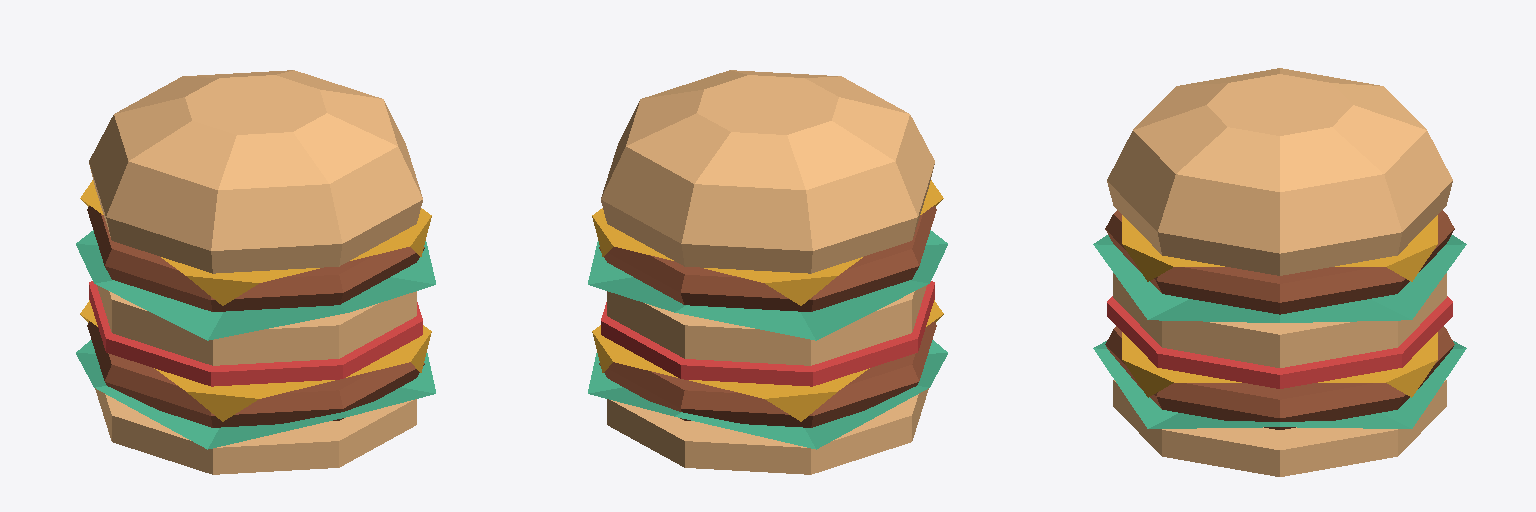
Rendered from burgerDouble.obj.
3 renders of one model, left to right at view 1: azimuth 30°, elevation 25°; view 2: azimuth 150°, elevation 25°; view 3: azimuth 270°, elevation 25°, orthographic.
Parts seen in each view (by area): view 1: bunTop, bunBottom, patty, salad, cheese, tomato; view 2: bunTop, bunBottom, patty, salad, cheese, tomato; view 3: bunTop, bunBottom, patty, salad, tomato, cheese.
Part boxes in pixels (x1,y1,x2,y2): bunTop: (89,70,422,273); bunBottom: (95,285,416,474); patty: (87,206,424,427); salad: (76,230,435,449); cheese: (80,180,431,421); tomato: (89,281,422,386); bunTop: (601,70,934,273); bunBottom: (607,285,928,474); patty: (599,206,936,427); salad: (588,230,947,449); cheese: (592,180,943,421); tomato: (601,281,934,386); bunTop: (1107,68,1452,275); bunBottom: (1113,273,1446,476); patty: (1105,210,1454,429); salad: (1093,235,1466,428); tomato: (1107,296,1452,388); cheese: (1122,215,1437,397).
Bounding box in the file's own units: 0.4041 × 0.36 × 0.4041.